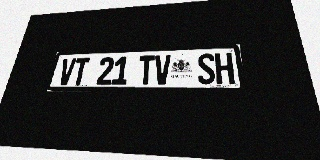1: (111, 56, 129, 85)
2: (96, 57, 115, 85)
H: (214, 53, 235, 84)
S: (197, 53, 216, 84)
T: (137, 55, 155, 85), (71, 58, 90, 85)
V: (57, 58, 77, 85), (154, 55, 171, 85)
